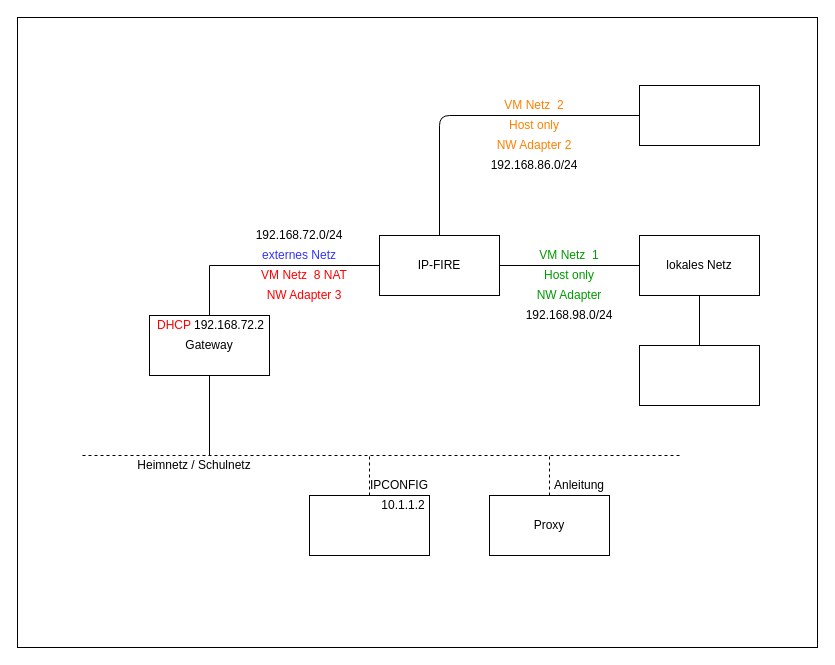
Image size: 835x665. Some labels were removed from this diagram. The shapes that lost their labels are listed below. From the top down, each one's box as (x1, y1, x2, y2) in pixels, then its label:
(638, 84, 760, 146): DMZ
(308, 494, 430, 556): DNS / DHCP
